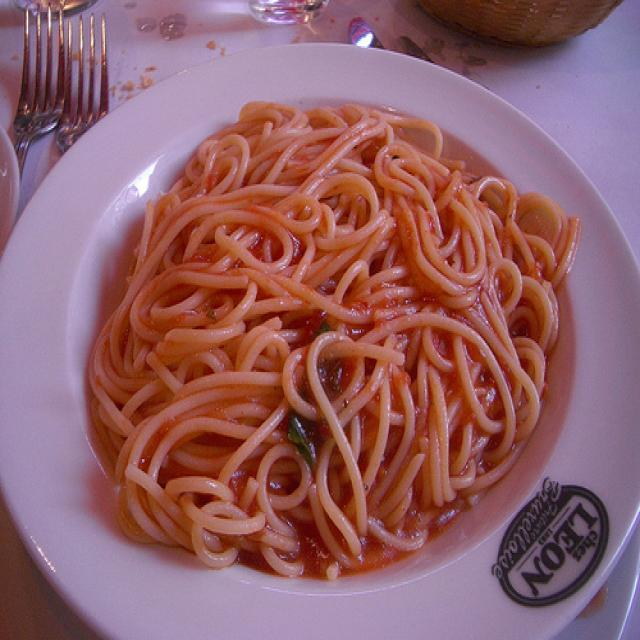Pasta: (86, 109, 566, 574)
